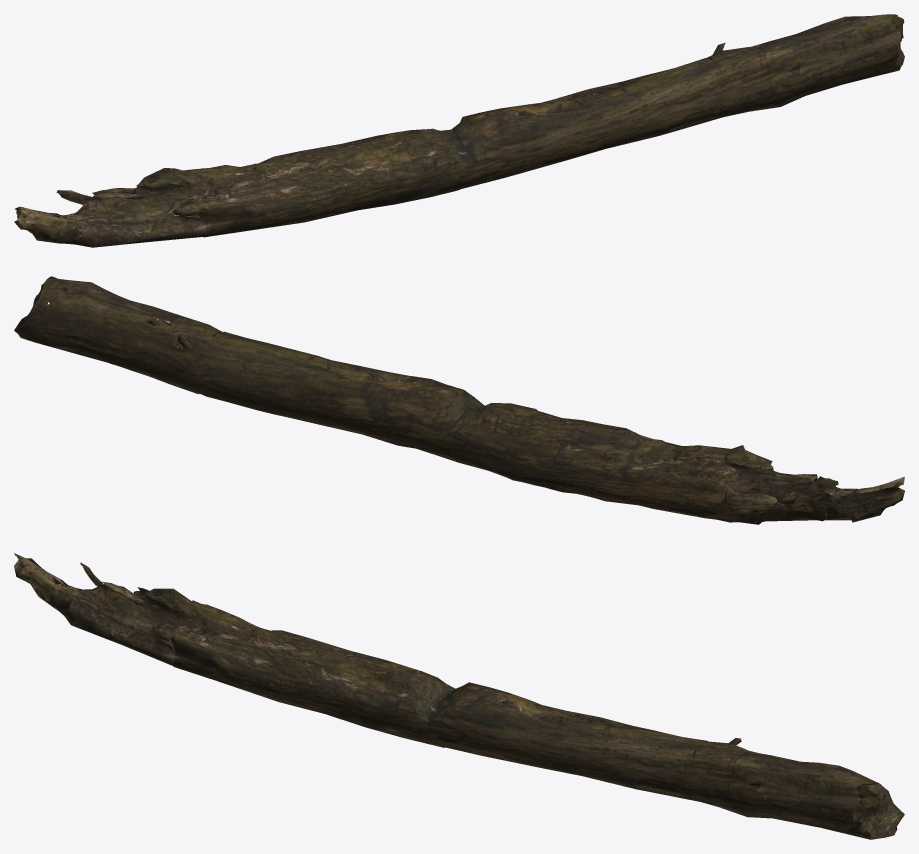
File: ph_log.glb
3 views of the same model, one above another, from view 1: azimuth 30°, elevation 25°; view 2: azimuth 150°, elevation 25°; view 3: azimuth 330°, elevation 25° (orthographic).
Parts seen in each view (by area): view 1: dead_tree_trunk; view 2: dead_tree_trunk; view 3: dead_tree_trunk.
Boxes of the visible parts, left/top/right/bottom form: dead_tree_trunk: left=14, top=14, right=904, bottom=247; dead_tree_trunk: left=14, top=276, right=904, bottom=524; dead_tree_trunk: left=14, top=553, right=904, bottom=839.
Size of the model in its own units: 3.05 by 0.2937 by 0.2732.
1 material, 1 textured.
